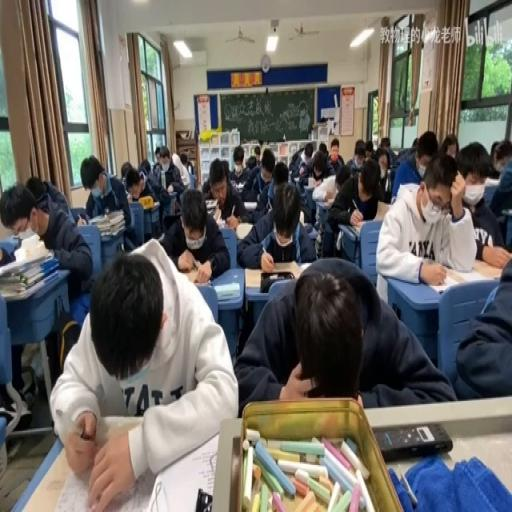calculator: (243, 258, 301, 284), (181, 266, 209, 283), (214, 282, 240, 300), (372, 199, 391, 221), (234, 222, 253, 240), (14, 226, 36, 240), (296, 258, 318, 272), (346, 219, 364, 235), (138, 196, 160, 209), (483, 176, 500, 188), (219, 218, 235, 230), (314, 195, 330, 206), (304, 175, 317, 188), (230, 181, 245, 192), (75, 218, 91, 228), (213, 205, 222, 222), (88, 213, 105, 222), (204, 199, 218, 209), (179, 174, 190, 186), (499, 206, 512, 216), (242, 201, 258, 209), (166, 186, 177, 195), (293, 174, 301, 180)
paper: (53, 239, 237, 508), (235, 259, 450, 412), (377, 153, 478, 286), (0, 179, 91, 303), (453, 248, 512, 400), (235, 175, 315, 266), (160, 185, 229, 281), (324, 155, 386, 256), (84, 152, 134, 249), (486, 150, 512, 240), (298, 146, 334, 190), (151, 145, 183, 193), (228, 145, 250, 186), (341, 138, 366, 173), (373, 135, 395, 171), (24, 174, 47, 204), (200, 158, 216, 193), (438, 131, 458, 158), (286, 145, 304, 174), (328, 138, 344, 168), (394, 138, 412, 164), (271, 161, 289, 186), (126, 175, 142, 200), (334, 164, 350, 189), (0, 243, 15, 266), (261, 150, 274, 176), (489, 141, 501, 165), (295, 178, 308, 198), (138, 158, 150, 179), (121, 159, 132, 181), (363, 139, 373, 161), (496, 155, 508, 171), (302, 145, 312, 161), (221, 159, 229, 178), (253, 145, 260, 165), (318, 141, 327, 155), (152, 162, 161, 175), (154, 146, 160, 165), (180, 154, 188, 168), (412, 136, 418, 150)
person: (373, 420, 453, 460), (194, 488, 213, 509)
